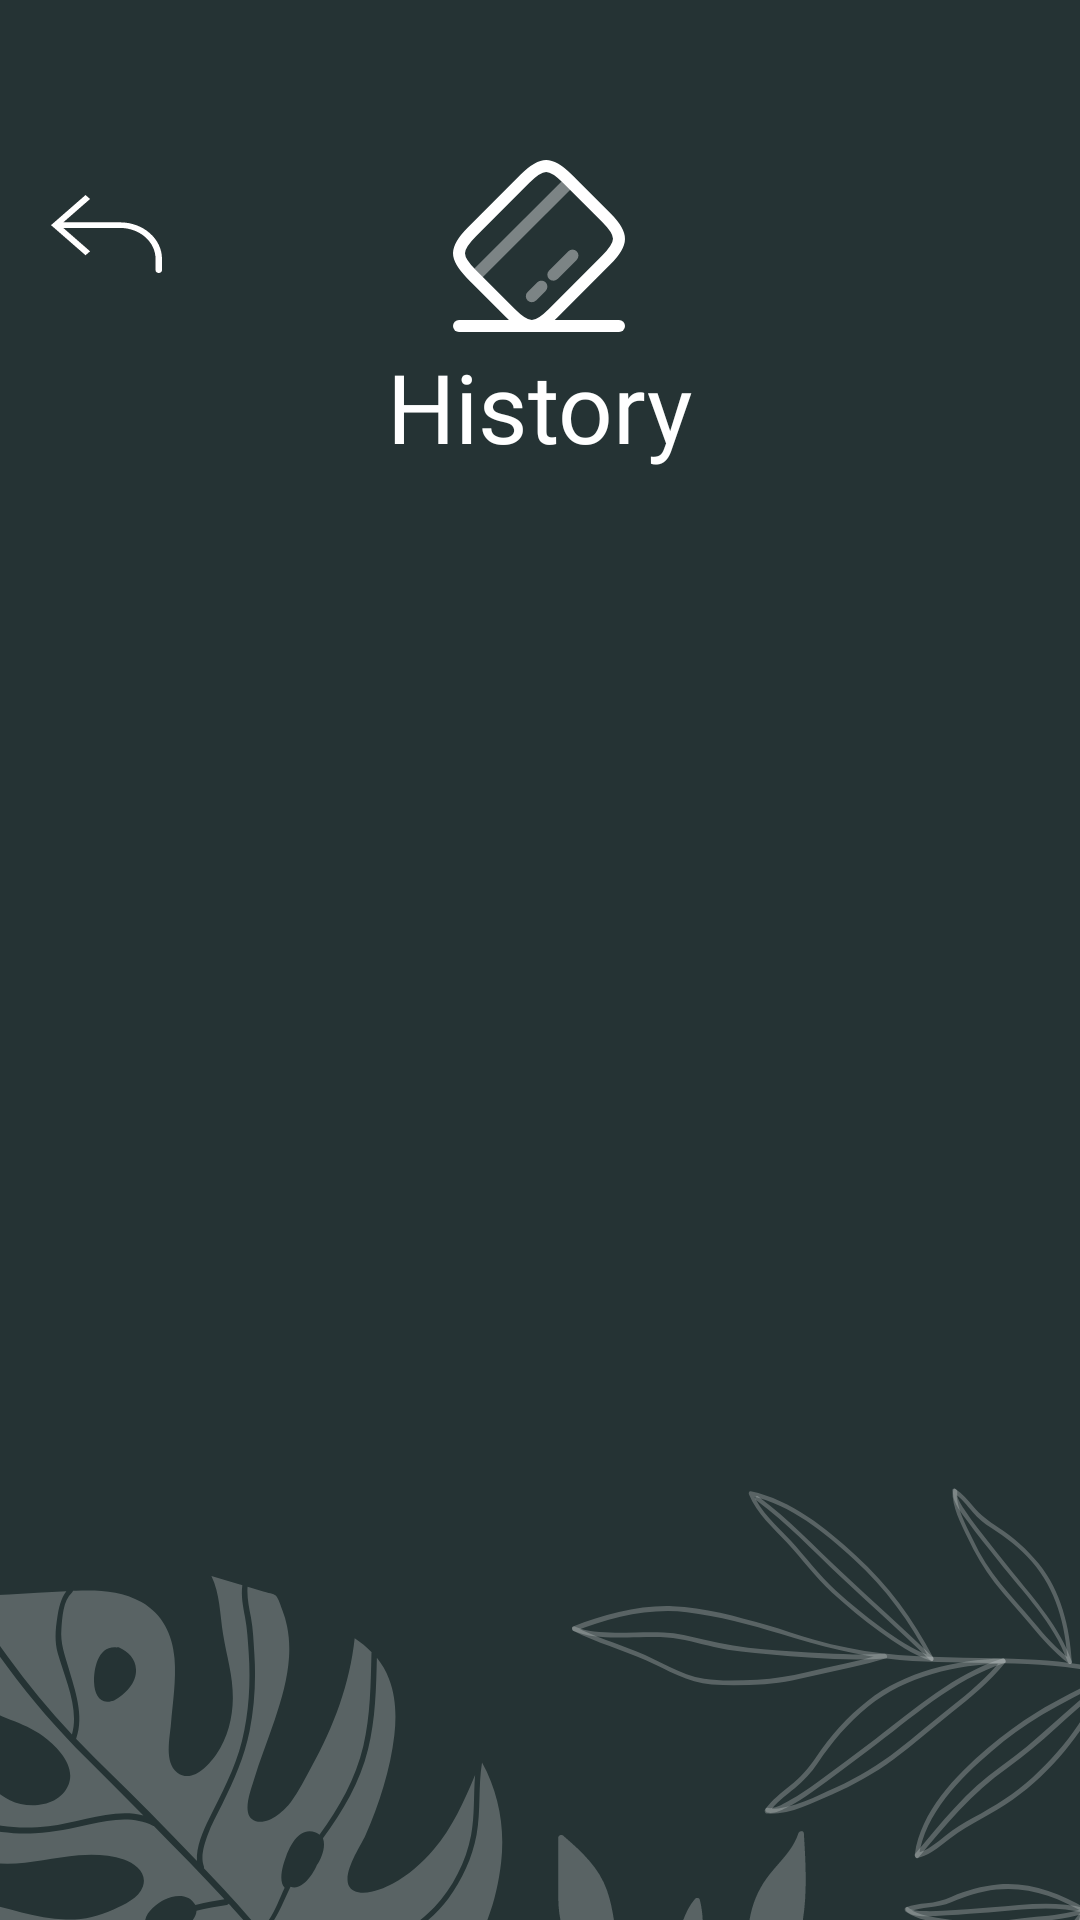

Where icons sit on this 1080x1920 app screen, as (x1, y1, x2, y2):
back: (51, 195, 162, 273)
